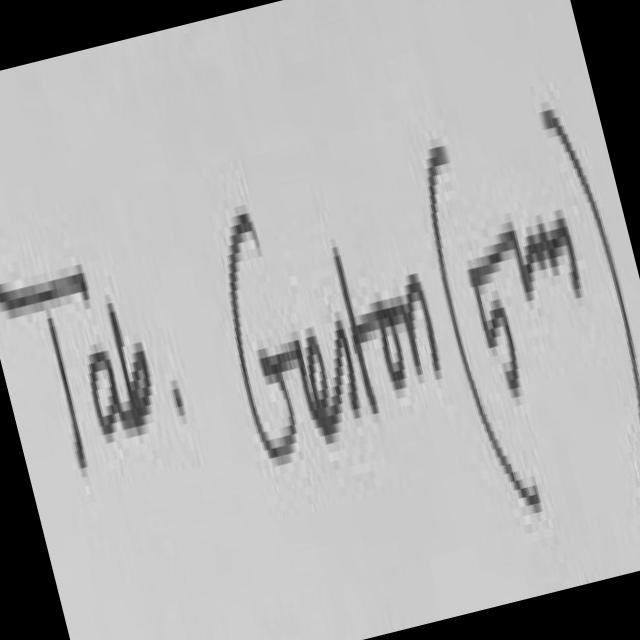G: (228, 212, 309, 459)
T: (0, 268, 89, 462)
a: (90, 350, 141, 441)
b: (104, 290, 153, 430)
e: (306, 337, 336, 428)
n: (470, 222, 522, 398), (389, 273, 440, 375)
o: (381, 309, 404, 383)
s: (336, 321, 360, 408)
t: (333, 244, 378, 408)
